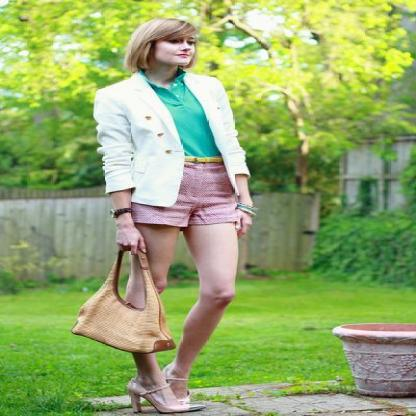bag: (73, 258, 184, 351)
jacket: (93, 71, 250, 206)
shirt: (146, 75, 219, 157)
shoe: (112, 391, 204, 414)
shorts: (135, 163, 255, 231)
